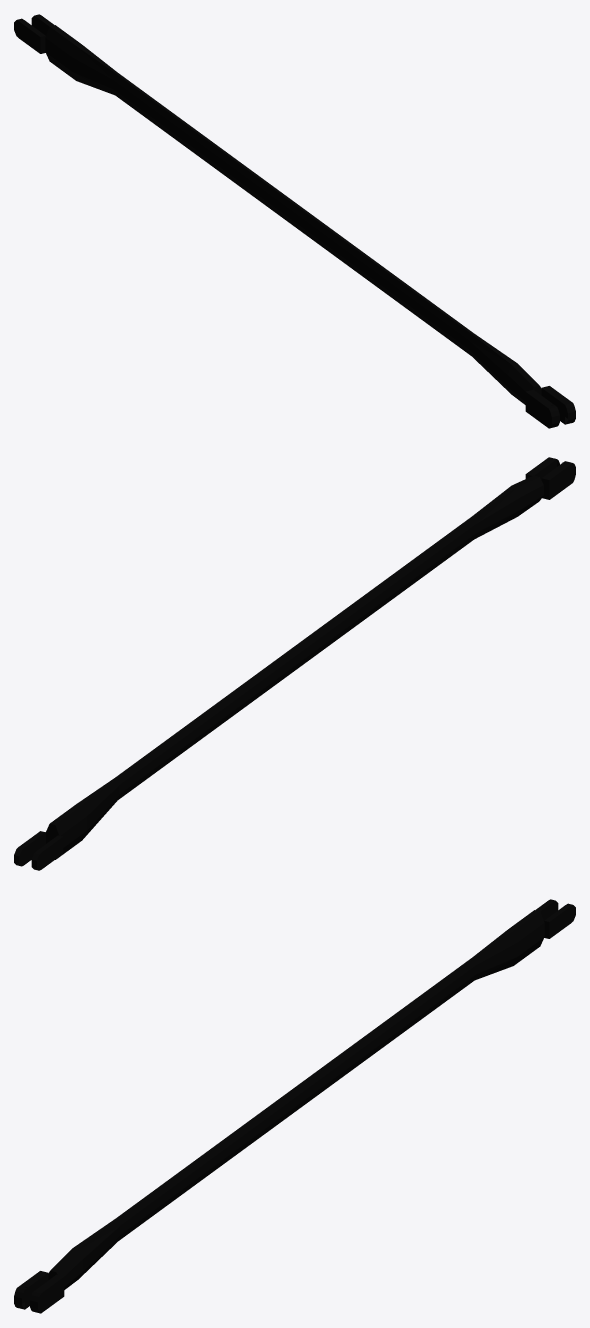
File: Wave Glider-Umbilical.dae
3 renders of one model, top to bottom at view 1: azimuth 30°, elevation 25°; view 2: azimuth 150°, elevation 25°; view 3: azimuth 330°, elevation 25°, orthographic.
Parts seen in each view (by area): view 1: node; view 2: node; view 3: node.
Boxes of the visible parts, bbox=[...] form: node: bbox=[14, 14, 575, 428]; node: bbox=[14, 457, 575, 870]; node: bbox=[14, 899, 575, 1313].
Size of the model in its own units: 0.0439 by 0.0608 by 1.7.
